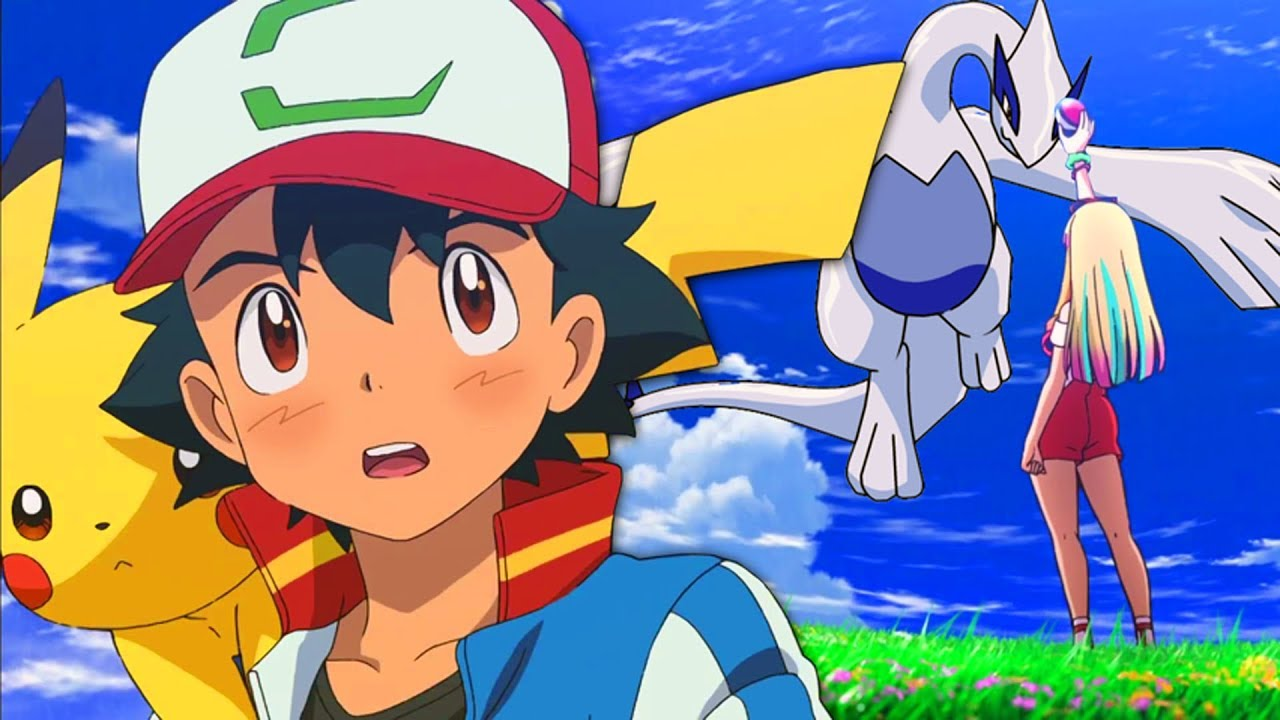lugia: (974, 1, 1090, 169)
